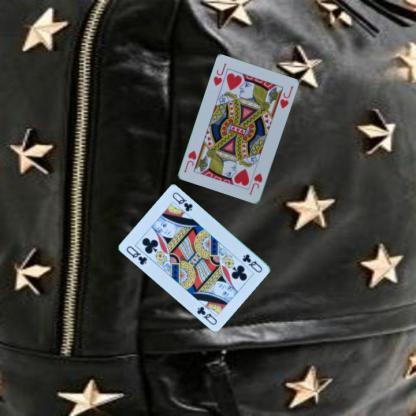Jh: (211, 61, 229, 91), (246, 171, 264, 196)
Qc: (240, 251, 264, 274), (124, 244, 148, 266)
